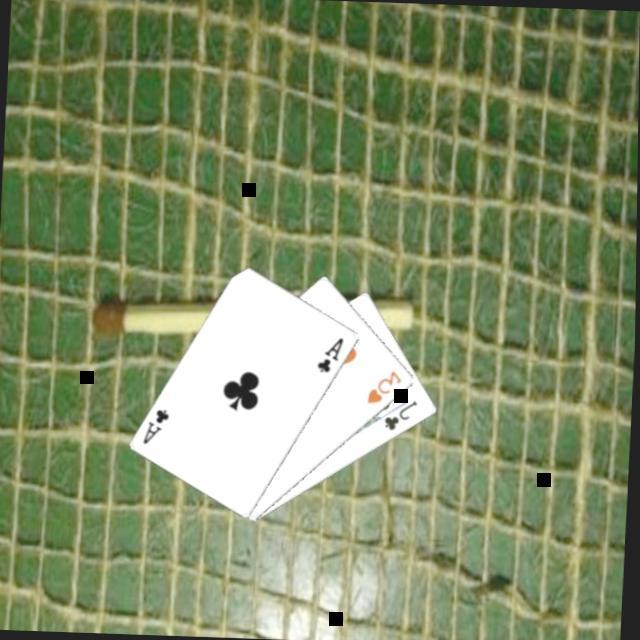3H: (364, 368, 404, 408)
AC: (313, 334, 347, 378), (138, 406, 172, 449)
JC: (380, 398, 420, 436)
